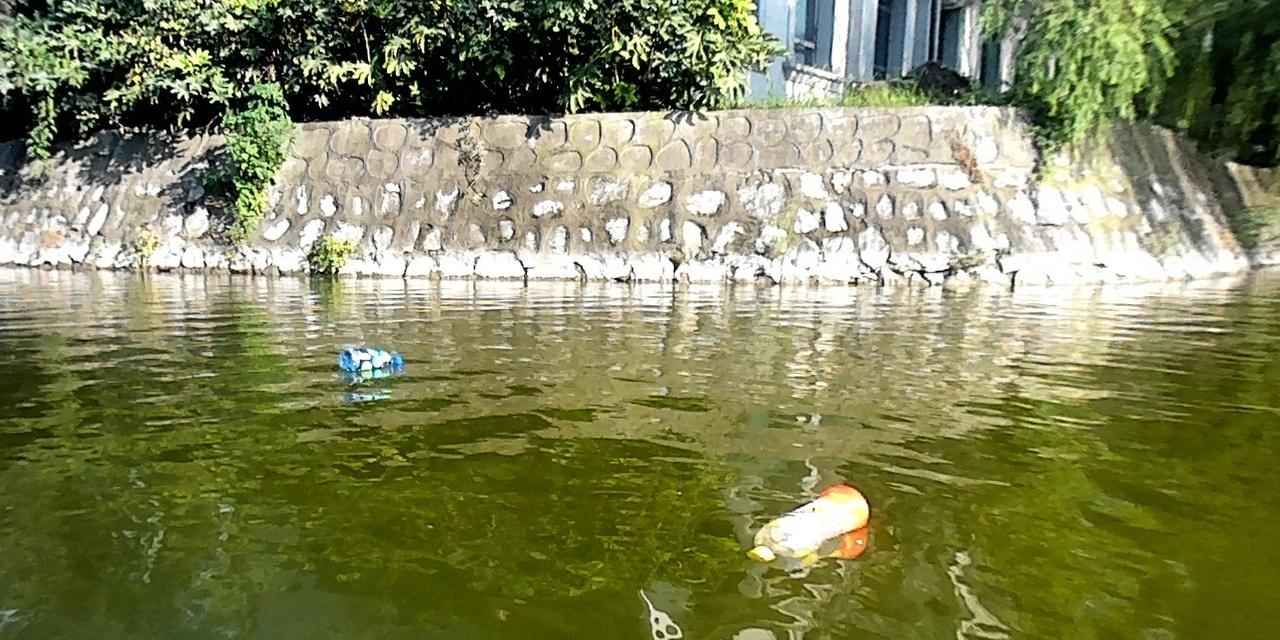bottle: (746, 481, 870, 562), (337, 342, 403, 373)
